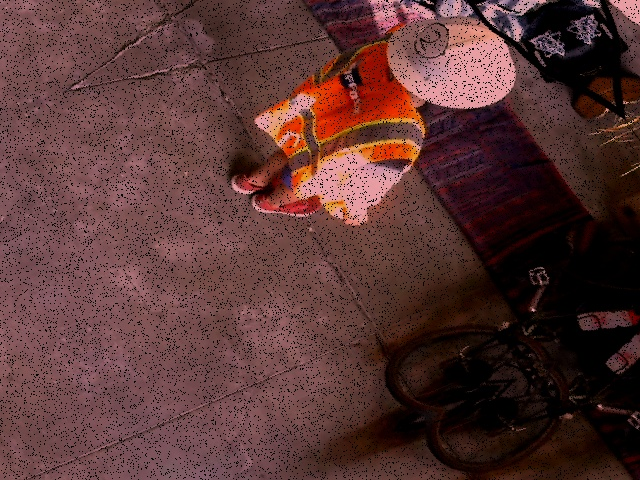two: (405, 20, 460, 61)
